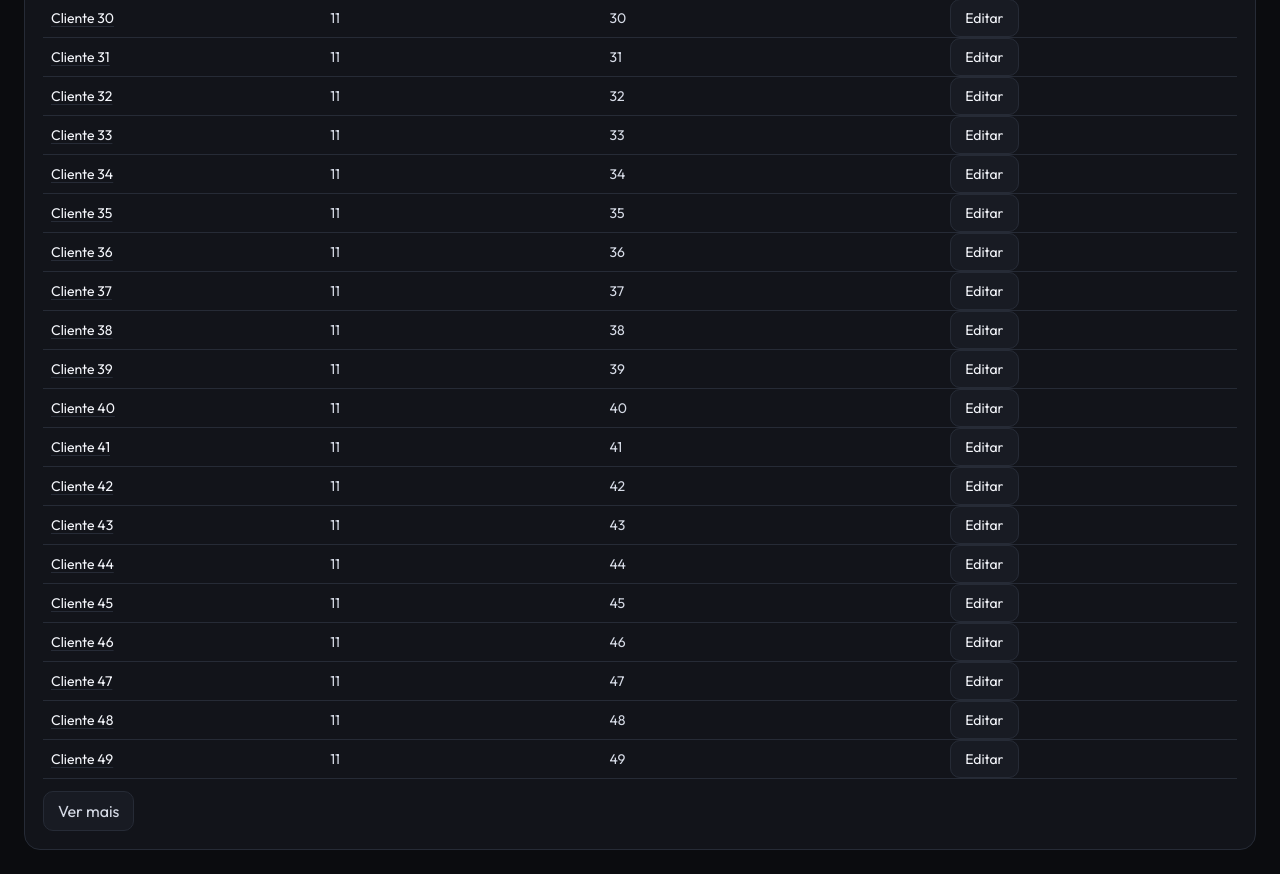
it: Clientes › pede a próxima página em Ver mais
The image size is (1280, 874).
(page scrolled)
Click the button "Ver mais". click: (89, 811)
box: [43,791,134,831]
(page scrolled)
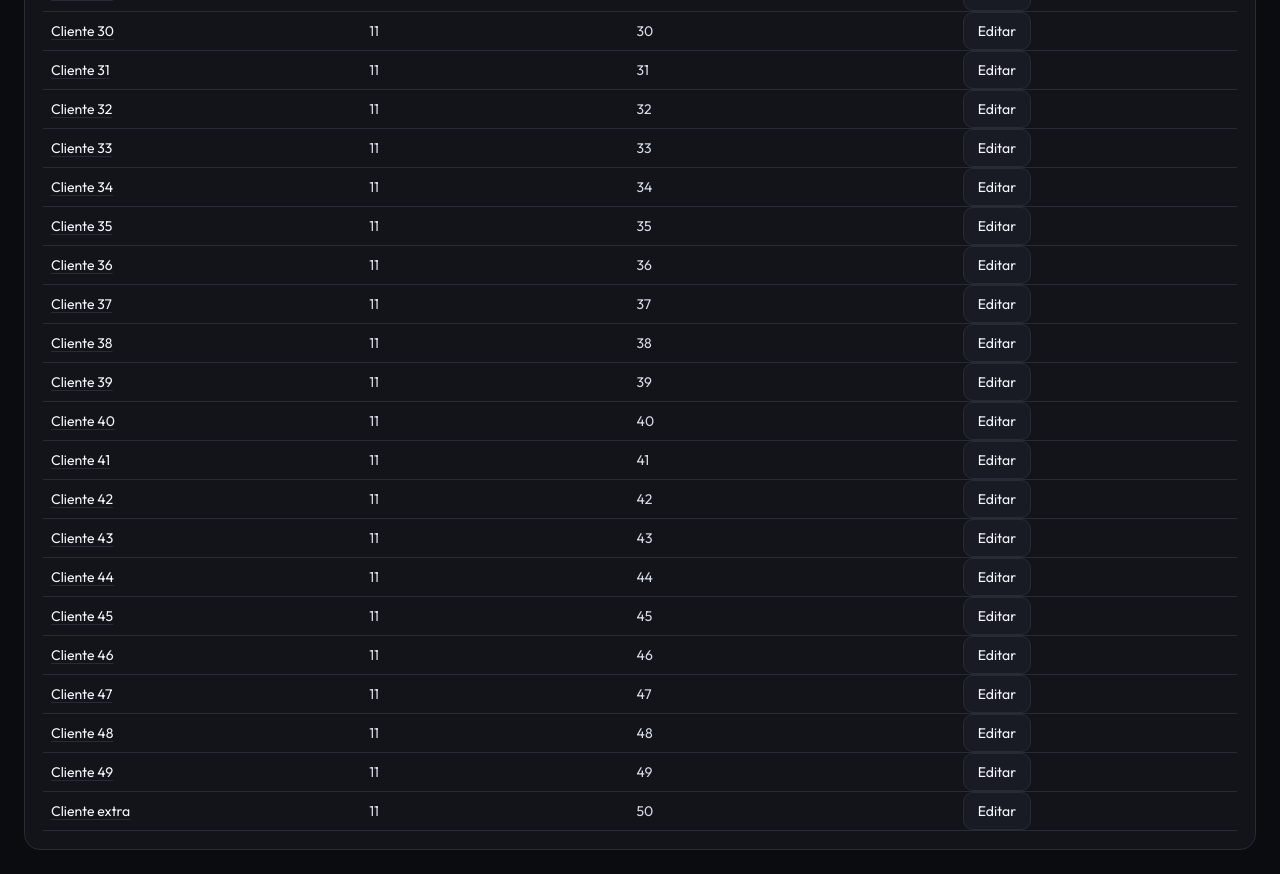
Expected: the link "Cliente extra" is shown, [51,802,130,820]
